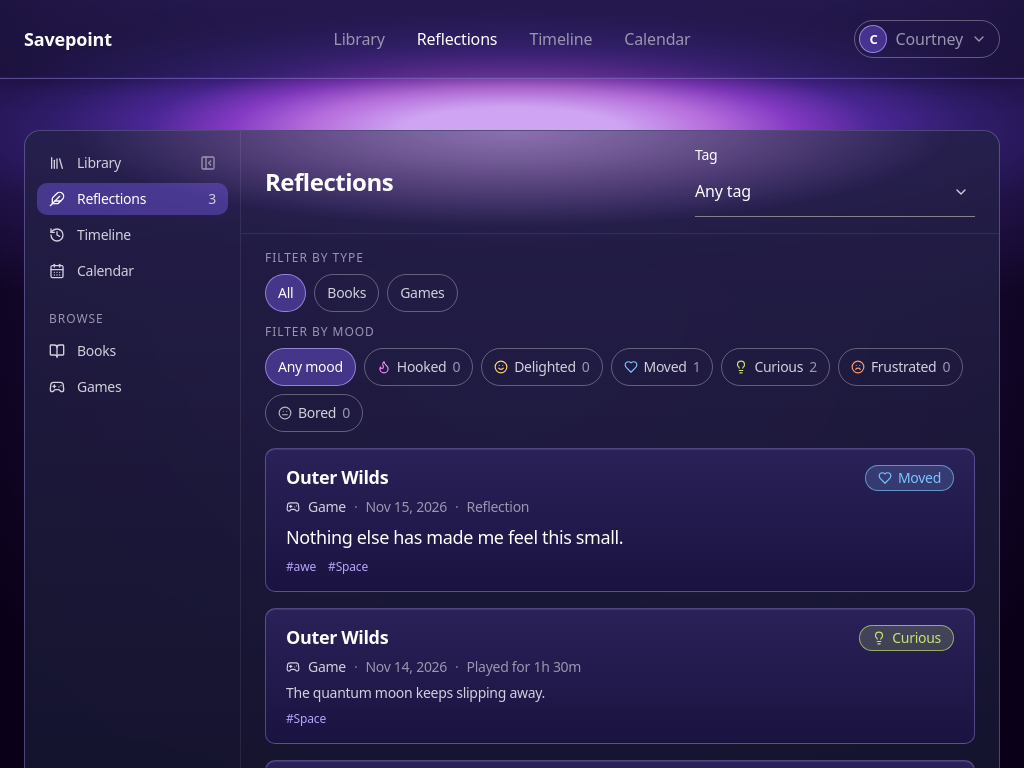
Test: ReflectionsPage › says when nothing matches, and clears the filters
Later steps or results of the test are not shown.
Click the button "Books".
click(347, 293)  # box 314,274 -> 379,312
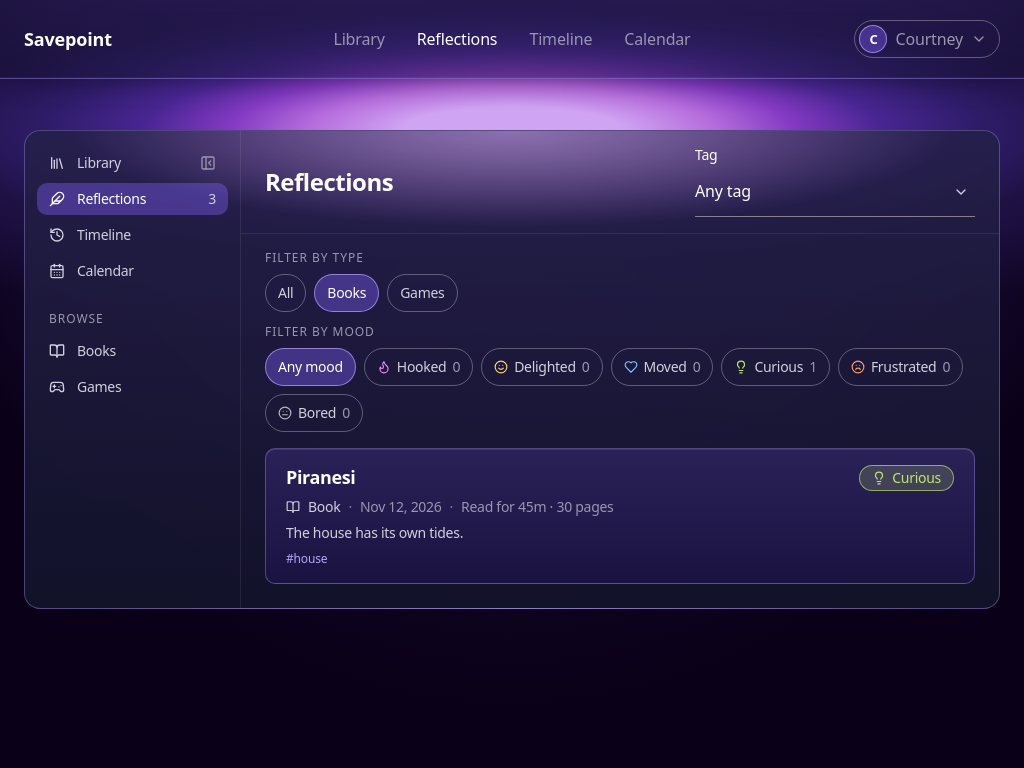
Click the button "Moved 0".
click(662, 367)  # box 610,348 -> 713,386
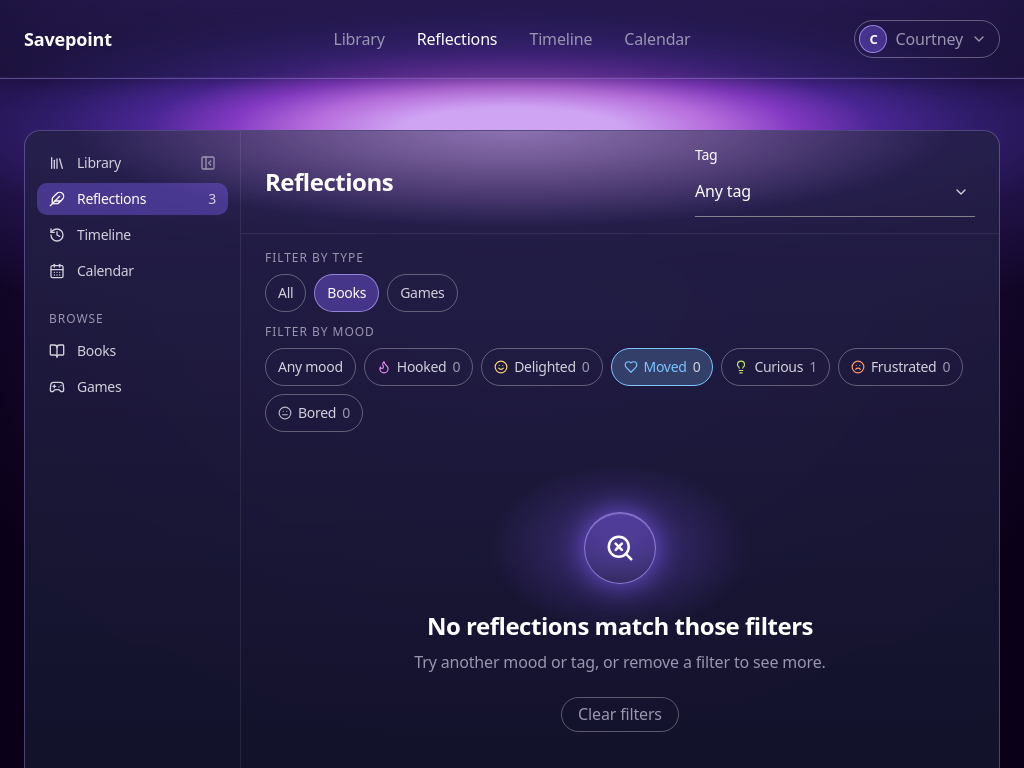
Expected: the heading "No reflections match those filters" is shown, 427,608 -> 813,644
